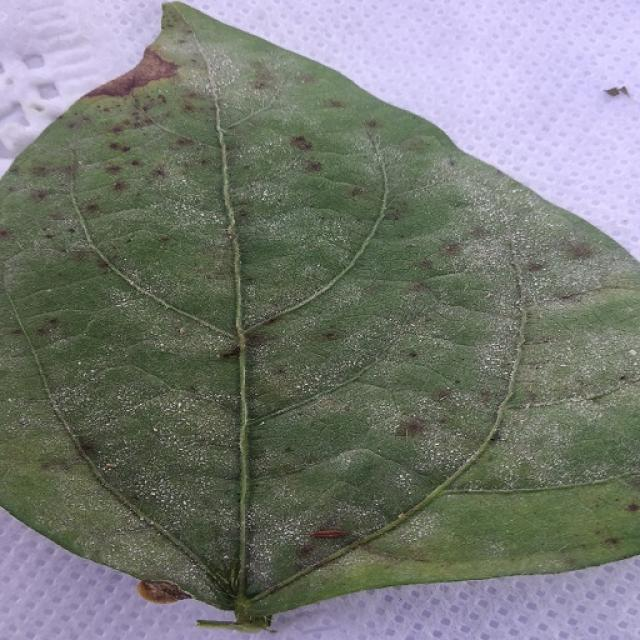Blackgram: (0, 2, 639, 630)
Powdery_Mildew: (413, 175, 595, 365), (60, 372, 238, 556), (61, 366, 221, 512), (520, 322, 640, 419), (416, 169, 522, 265), (73, 126, 200, 197), (387, 379, 492, 463), (509, 407, 626, 479), (483, 197, 570, 292), (52, 353, 148, 439), (275, 328, 377, 402), (225, 128, 323, 202), (432, 313, 515, 399), (251, 486, 334, 568), (143, 178, 226, 236), (200, 47, 272, 113), (245, 202, 315, 245), (391, 505, 449, 547), (130, 272, 182, 309), (398, 472, 408, 482), (19, 417, 28, 425), (262, 189, 269, 198), (512, 188, 520, 194), (434, 441, 440, 447), (90, 369, 96, 374), (7, 397, 13, 402), (47, 288, 53, 293), (296, 384, 301, 389), (77, 361, 82, 366), (260, 421, 265, 426), (317, 263, 321, 268)
